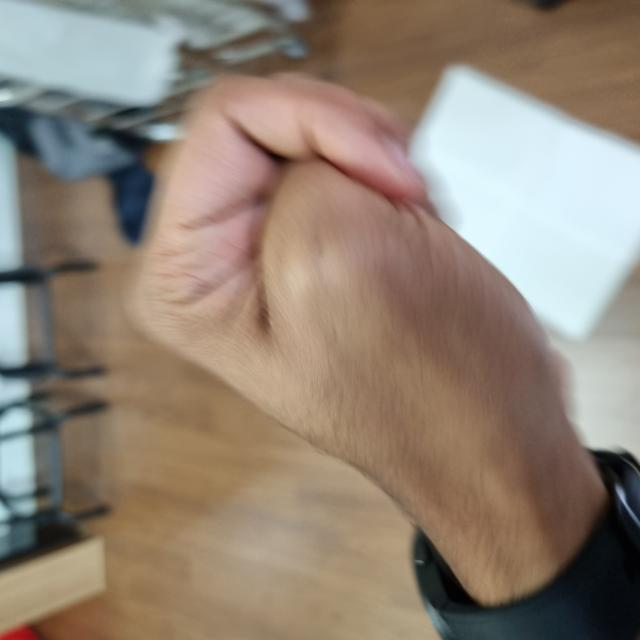Rock: (128, 139, 562, 561)
